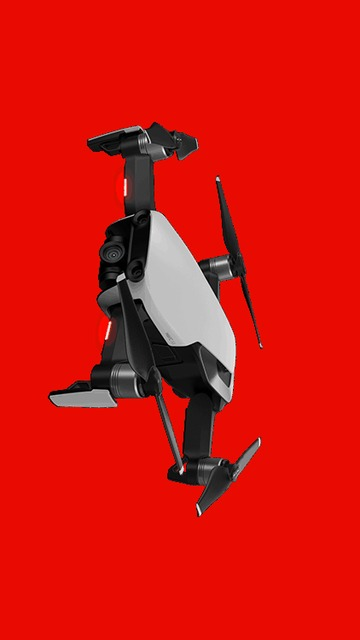drone: (49, 120, 263, 517)
